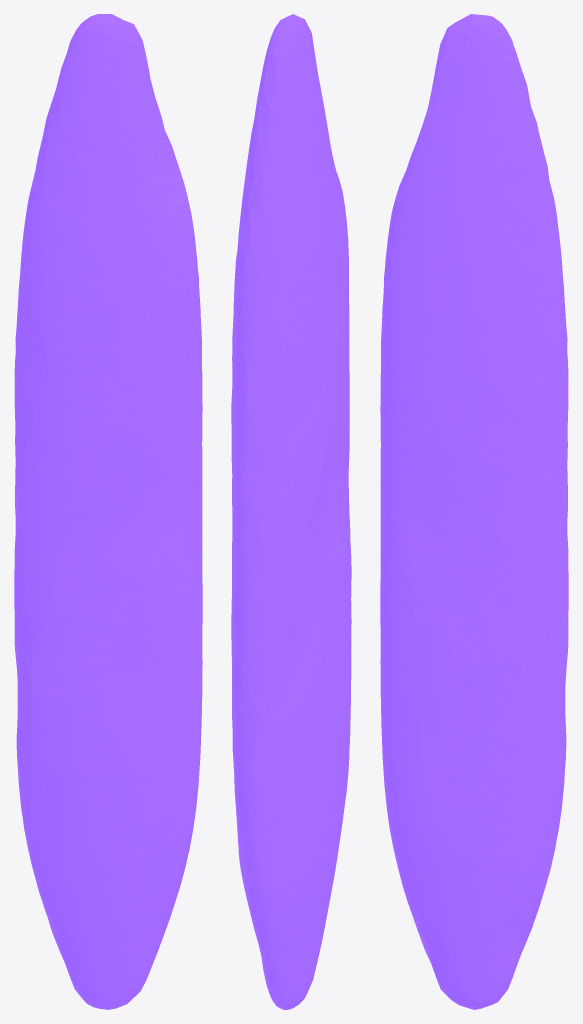
Rendered from Shard2.fbx.
3 renders of one model, left to right at view 1: azimuth 90°, elevation 25°; view 2: azimuth 150°, elevation 25°; view 3: azimuth 270°, elevation 25°, orthographic.
Parts seen in each view (by area): view 1: Shard2; view 2: Shard2; view 3: Shard2.
Part boxes in pixels (<box>): Shard2: <box>14,14,202,1009</box>; Shard2: <box>231,14,351,1009</box>; Shard2: <box>380,14,568,1009</box>.
Size of the model in its own units: 77.02 by 974 by 167.
